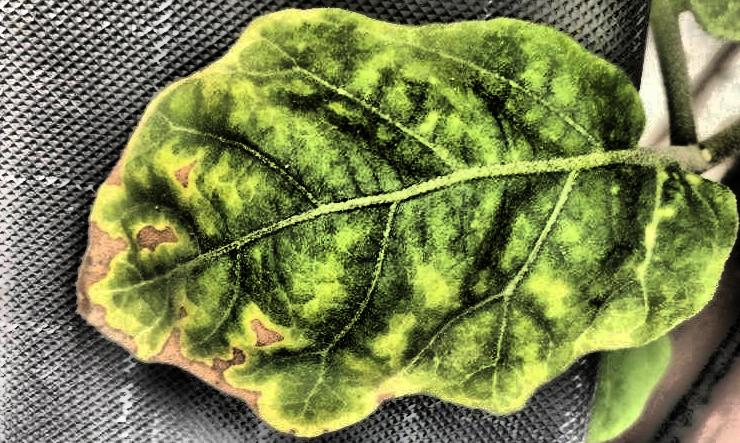Critical Stress: (1, 0, 740, 443)
